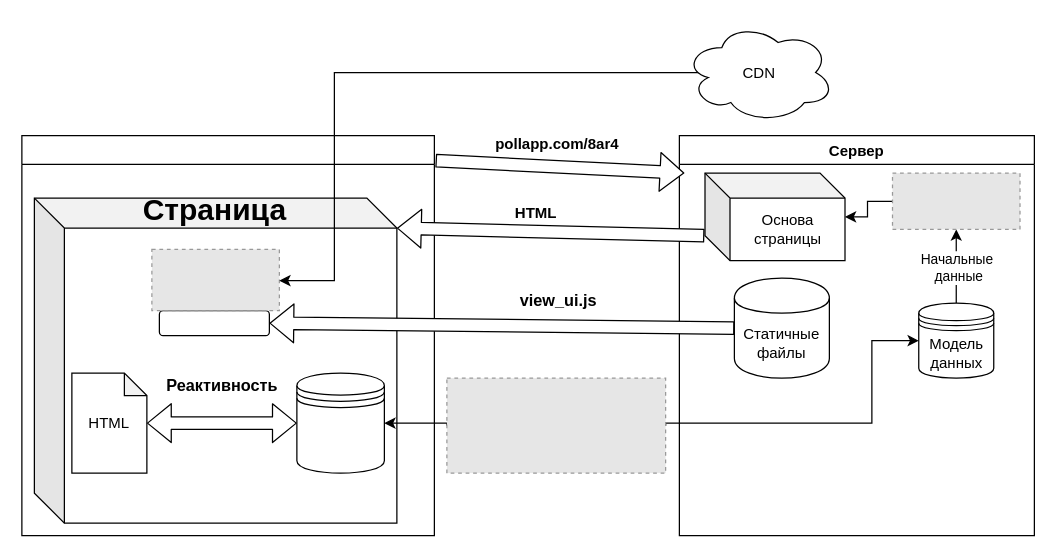
Image size: 1056x558. Some labels were removed from this diagram. Grey dashed boxes stand in for pictures. The box of each missing label's shape, as (x1, y1, x2, y2) in pixels:
<script>: (158, 309, 269, 336)
Веб-клиент: (21, 134, 434, 536)
Локальное состояние: (296, 372, 384, 473)
